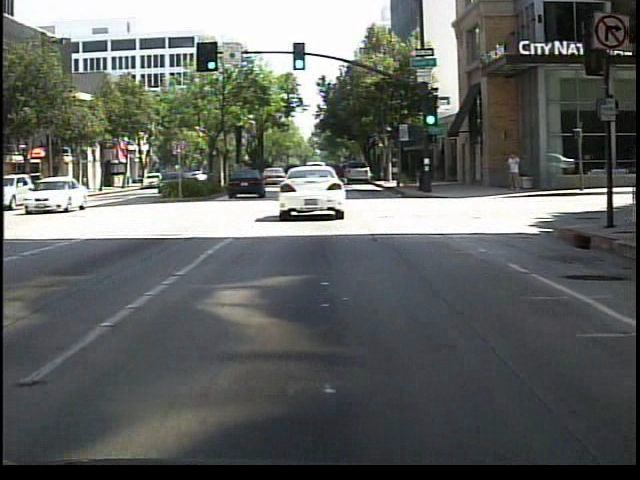person: (503, 152, 523, 197)
